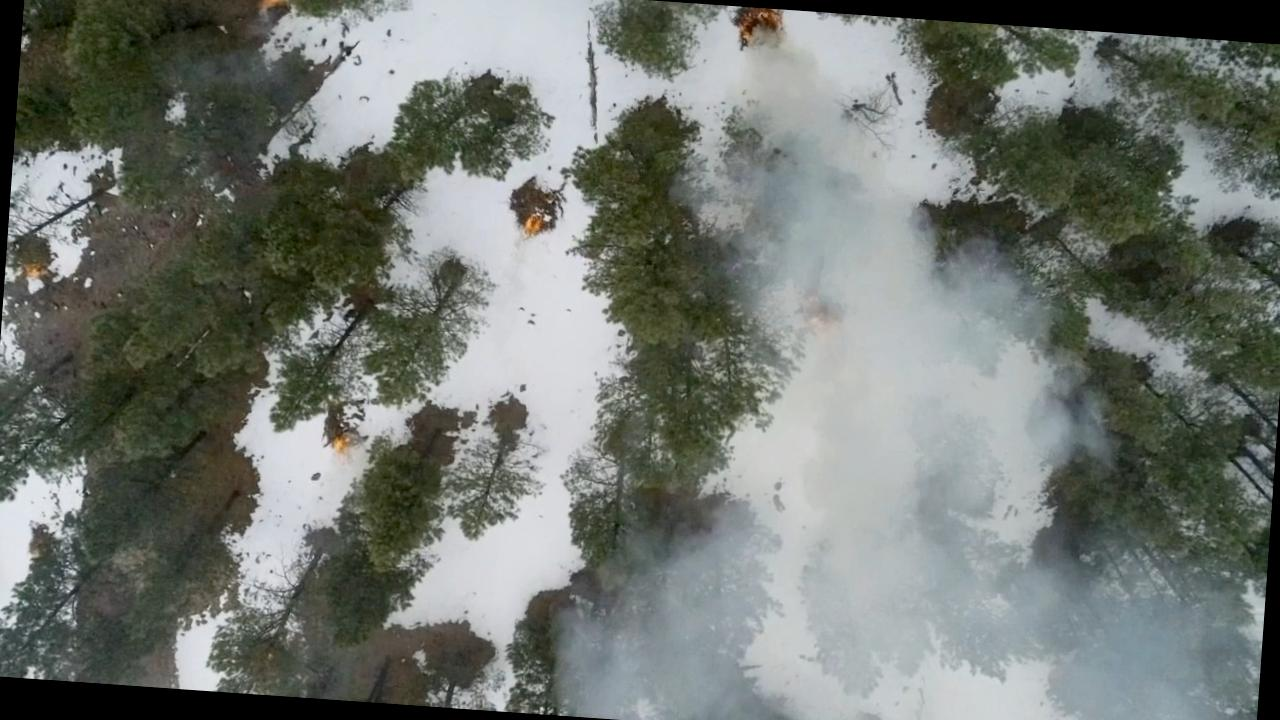fire: (730, 6, 790, 62), (516, 208, 550, 244), (328, 432, 358, 459), (245, 0, 290, 16)
smoke: (562, 448, 1243, 720), (720, 145, 1093, 476)
